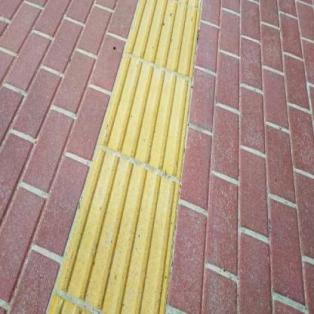Podoctatil: (45, 0, 207, 314)
